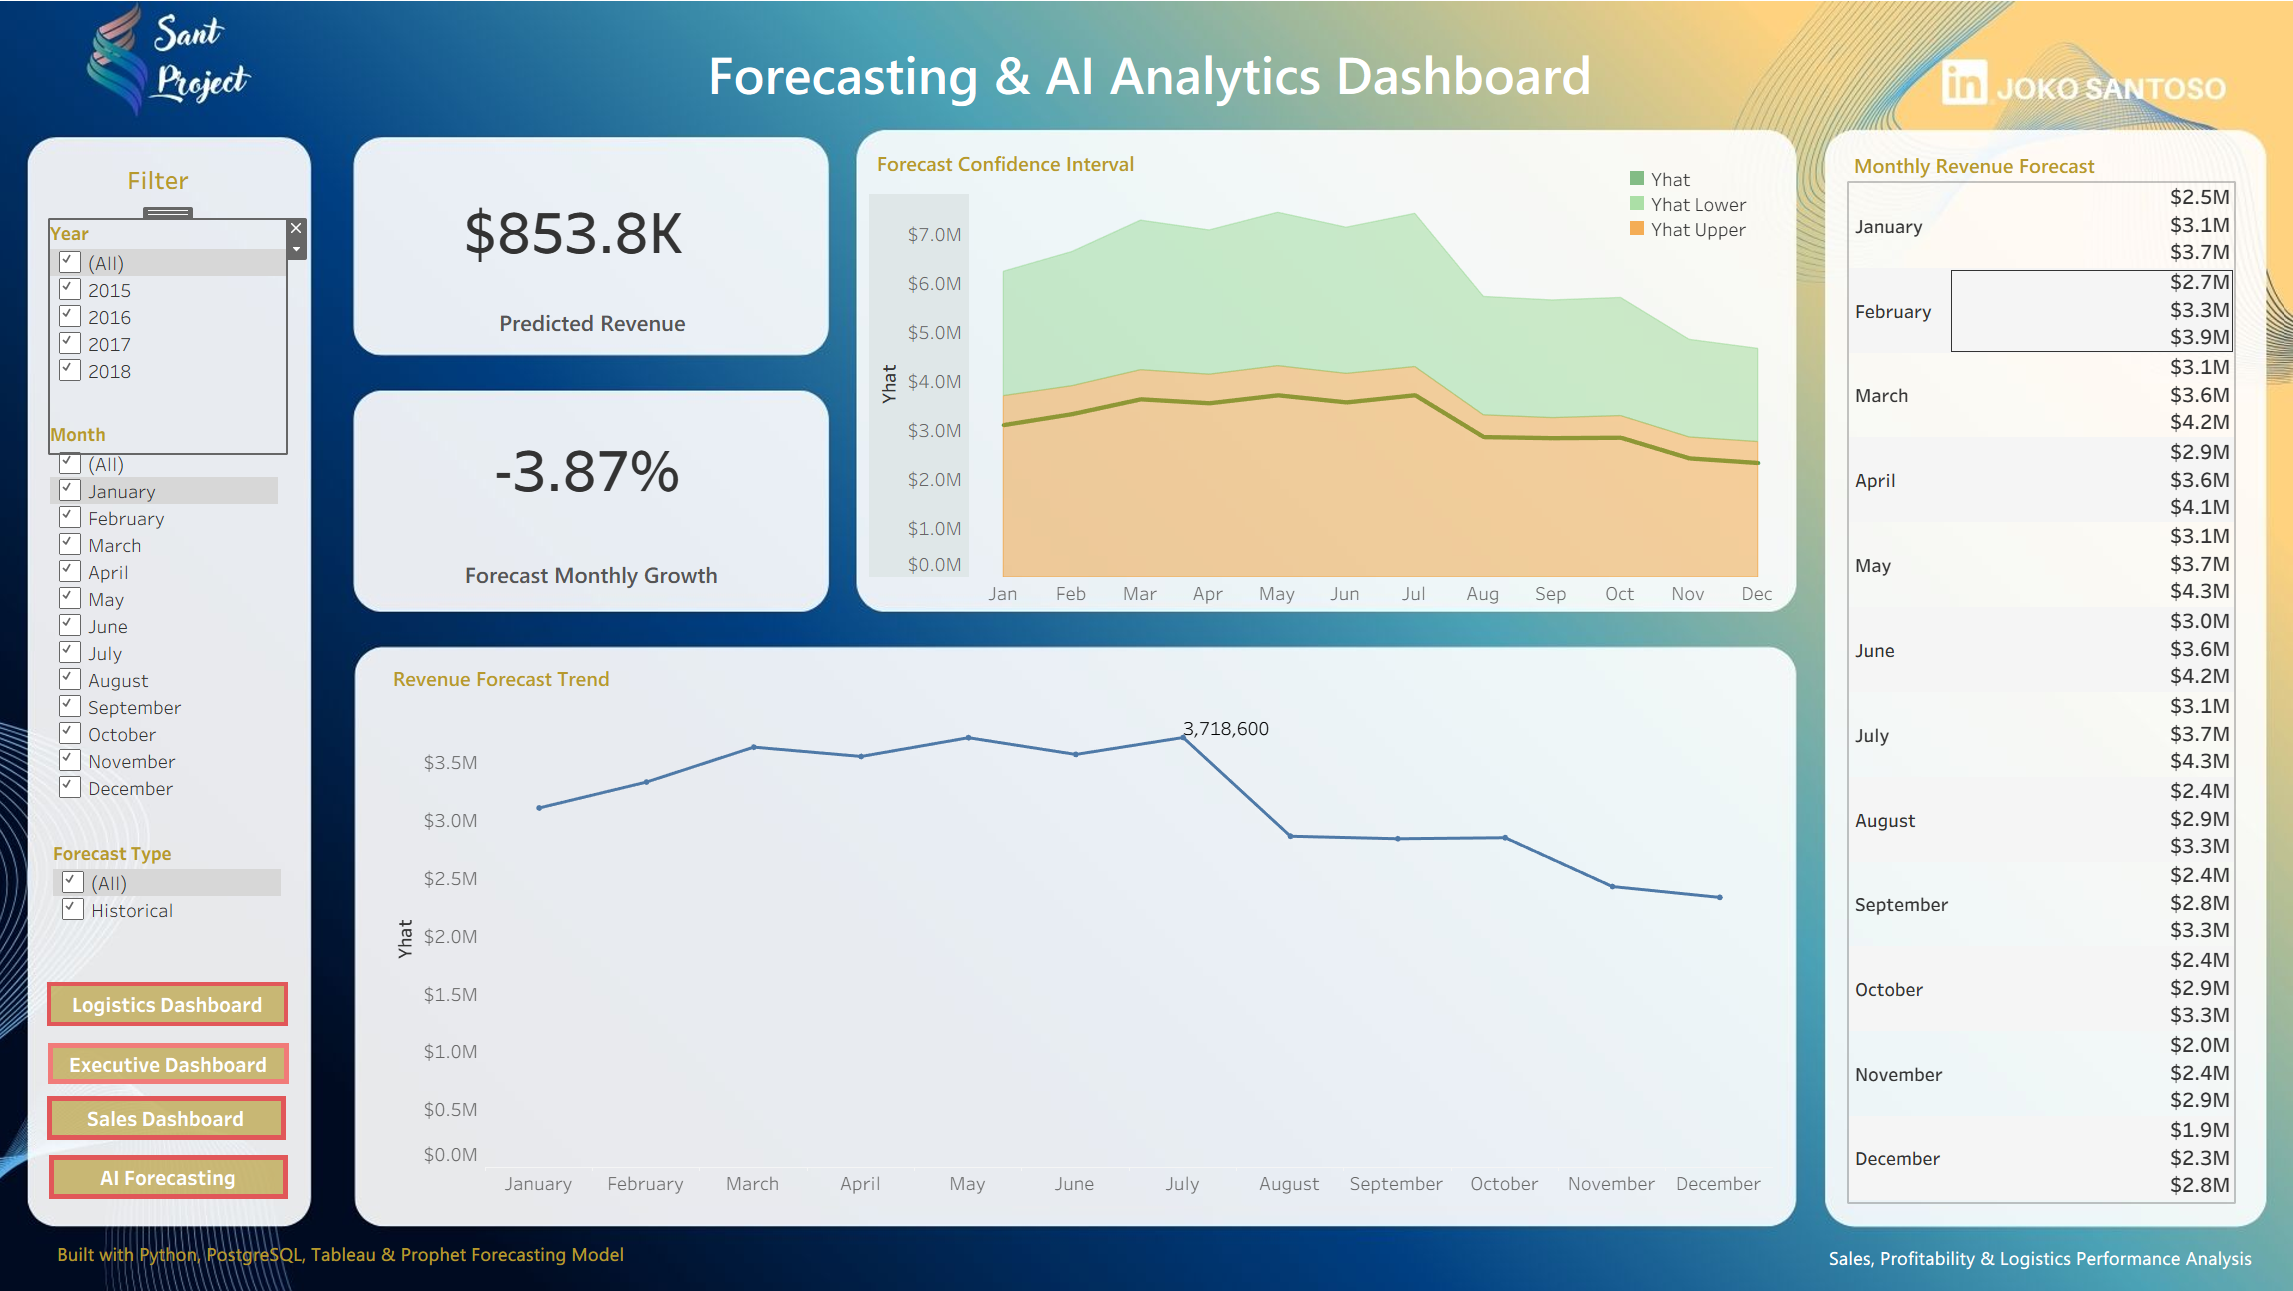

The page's visual inventory and layout, read from the dashboard file:
{"tool":"tableau","page":{"name":"Forecasting & AI Analytics","canvas":[2320,1360],"ordinal":1},"visuals":[{"type":"image","param":"C:/Users/santo/OneDrive/Dokumen/DiBimbing/BIG PROJECT/bg/ai.jpg","box":[8,8,2304,1344]},{"type":"text","box":[440.4,42.1,1448.4,127.2]},{"type":"text","box":[887.1,174.4,474.6,44.1]},{"type":"text","box":[1864.1,176.4,331.9,44.1]},{"type":"text","box":[109.6,194.9,124.1,33.9]},{"type":"legend","title":"Forecast Confidence Interval","param":"[federated.0u8c5et0m1voto1erqpxt1di6ijg].[:Measure Names]","box":[1638.7,199,144.7,103.6]},{"type":"worksheet","title":"KPI - Predicted Revenue","mark":"Text","box":[450.8,212.3,266.7,113.8]},{"type":"worksheet","title":"Forecast Table","mark":"Automatic","rows":["ds"],"box":[1863,216.4,384.6,1018.5]},{"type":"worksheet","title":"Forecast Confidence Interval","mark":"Area","rows":["yhat"],"cols":["ds"],"box":[882.9,226.7,923.2,412.3]},{"type":"filter","title":"Forecast Trend","param":"[federated.0u8c5et0m1voto1erqpxt1di6ijg].[yr:ds:ok]","box":[64.1,253.3,235.7,232.8]},{"type":"text","box":[462.1,335.4,289.5,40]},{"type":"filter","title":"Forecast Trend","param":"[federated.0u8c5et0m1voto1erqpxt1di6ijg].[mn:ds:ok]","box":[64.1,454.4,228.5,440]},{"type":"worksheet","title":"KPI Forecast Growth","mark":"Text","cols":["ds"],"box":[479.7,462.6,243,90.3]},{"type":"text","box":[461.1,586.7,289.5,40]},{"type":"text","box":[403.2,689.2,474.6,44.1]},{"type":"worksheet","title":"Forecast Trend","mark":"Line","rows":["yhat"],"cols":["ds"],"box":[399.1,746.7,1388.5,482.1]},{"type":"filter","title":"Forecast Trend","param":"[federated.0u8c5et0m1voto1erqpxt1di6ijg].[none:Calculation_0605559226318860:nk]","box":[67.2,872.8,228.5,123.1]},{"type":"dashboard-object","box":[61,1015.4,240.9,44.1]},{"type":"dashboard-object","box":[62,1075.9,240.9,41]},{"type":"dashboard-object","box":[61,1129.2,238.8,44.1]},{"type":"dashboard-object","box":[63.1,1187.7,238.8,44.1]},{"type":"text","box":[67.2,1271.8,685.4,29.7]},{"type":"text","box":[1785.5,1274.9,484.9,30.8]}]}

Visuals, with their boxes on the page's 2320x1360 design canvas (x1, y1, x2, y2). These are canvas units, not pixel positions in the 2293x1291 screenshot, which may show the page scaled, cropped or inside an application window:
image: 8,8,2312,1352
text: 440,42,1889,169
text: 887,174,1362,218
text: 1864,176,2196,220
text: 110,195,234,229
"Forecast Confidence Interval" legend: 1639,199,1783,303
"KPI - Predicted Revenue" worksheet (Text marks): 451,212,718,326
"Forecast Table" worksheet: 1863,216,2248,1235
"Forecast Confidence Interval" worksheet (Area marks): 883,227,1806,639
"Forecast Trend" filter: 64,253,300,486
text: 462,335,752,375
"Forecast Trend" filter: 64,454,293,894
"KPI Forecast Growth" worksheet (Text marks): 480,463,723,553
text: 461,587,751,627
text: 403,689,878,733
"Forecast Trend" worksheet (Line marks): 399,747,1788,1229
"Forecast Trend" filter: 67,873,296,996
dashboard-object: 61,1015,302,1060
dashboard-object: 62,1076,303,1117
dashboard-object: 61,1129,300,1173
dashboard-object: 63,1188,302,1232
text: 67,1272,753,1302
text: 1786,1275,2270,1306
